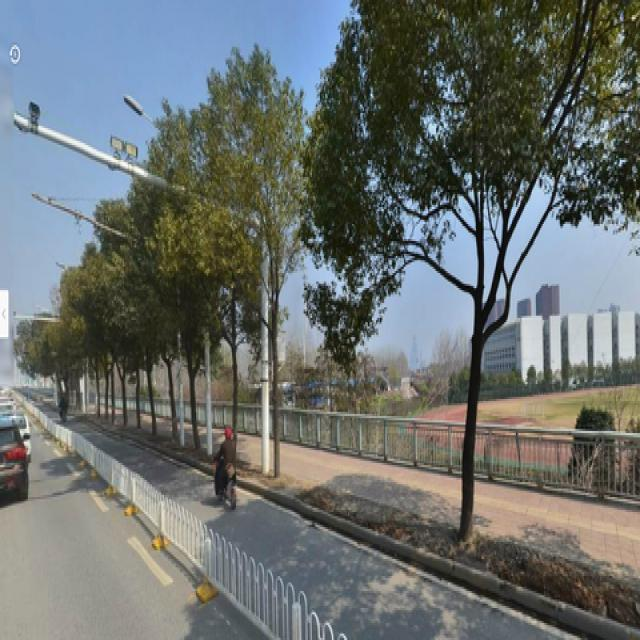cinn: (384, 15, 539, 546), (225, 91, 312, 458)
